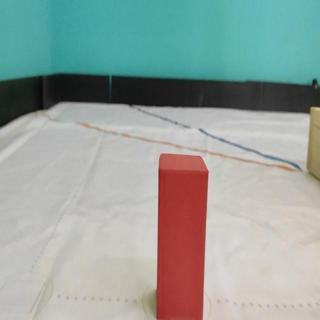redbox: (160, 153, 207, 320)
